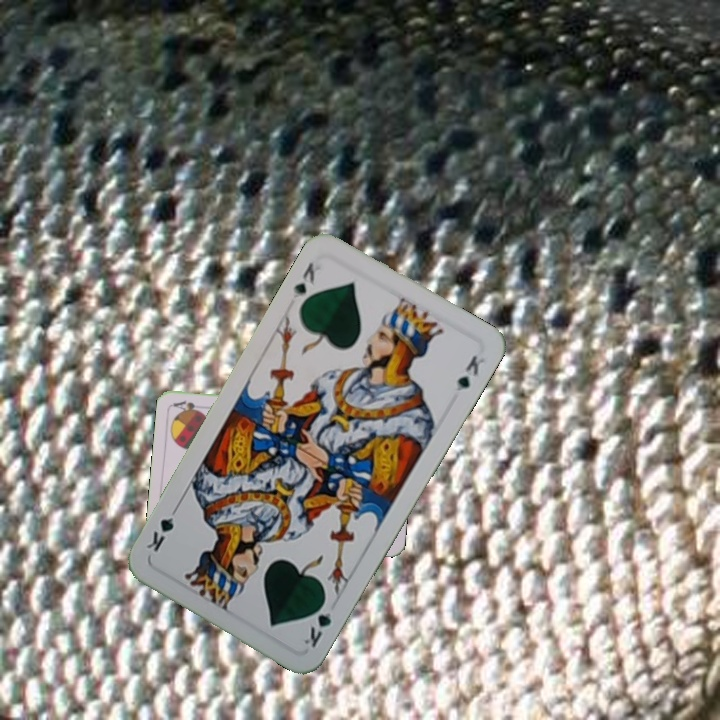GK: (299, 594, 335, 651), (288, 258, 318, 303)
